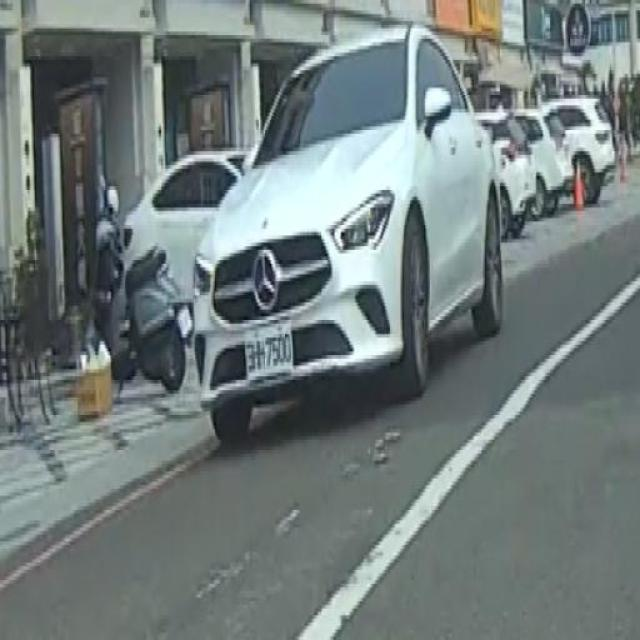Legalparking: (158, 11, 520, 489)
